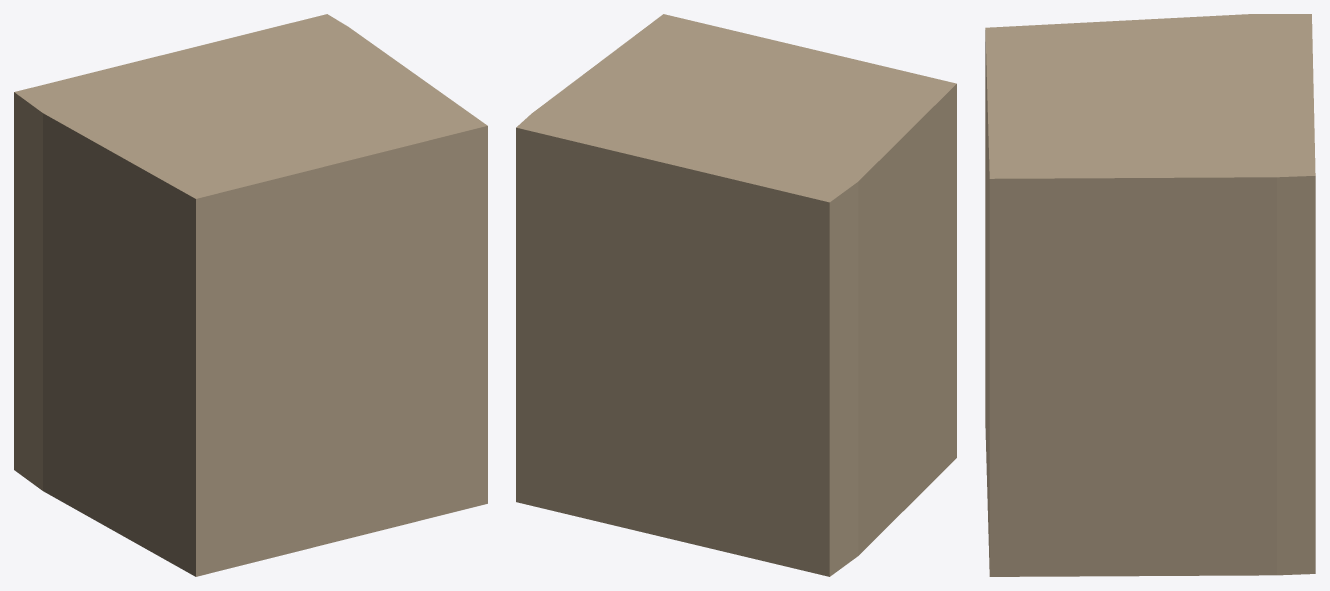
The model's file is bld_99003300.dae.
3 views of the same model, side by side, from view 1: azimuth 30°, elevation 25°; view 2: azimuth 150°, elevation 25°; view 3: azimuth 270°, elevation 25° (orthographic). The views are drawn at different scales.
Visible parts, largest first — view 1: bld_99003300; view 2: bld_99003300; view 3: bld_99003300.
Boxes of the visible parts, x1,y1,x2,y2 form: bld_99003300: (14, 14, 487, 576); bld_99003300: (516, 14, 956, 576); bld_99003300: (985, 14, 1315, 576).
Bounding box in the file's own units: 7.1 × 6.01 × 8.
